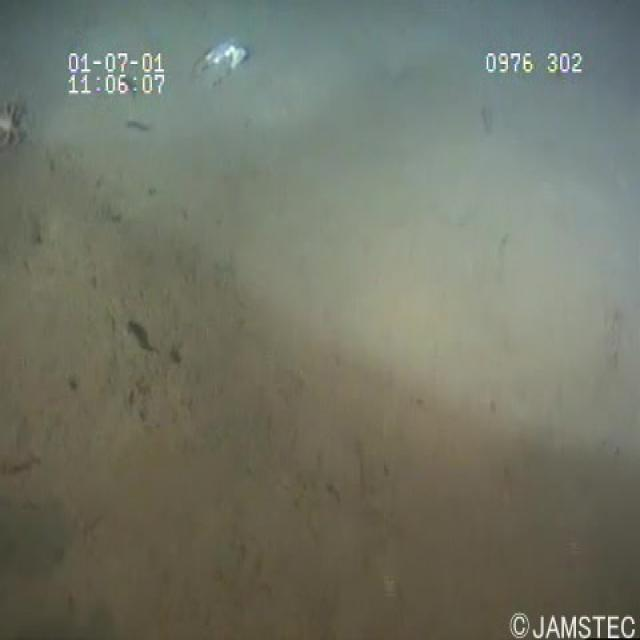plastic: (183, 30, 256, 100)
